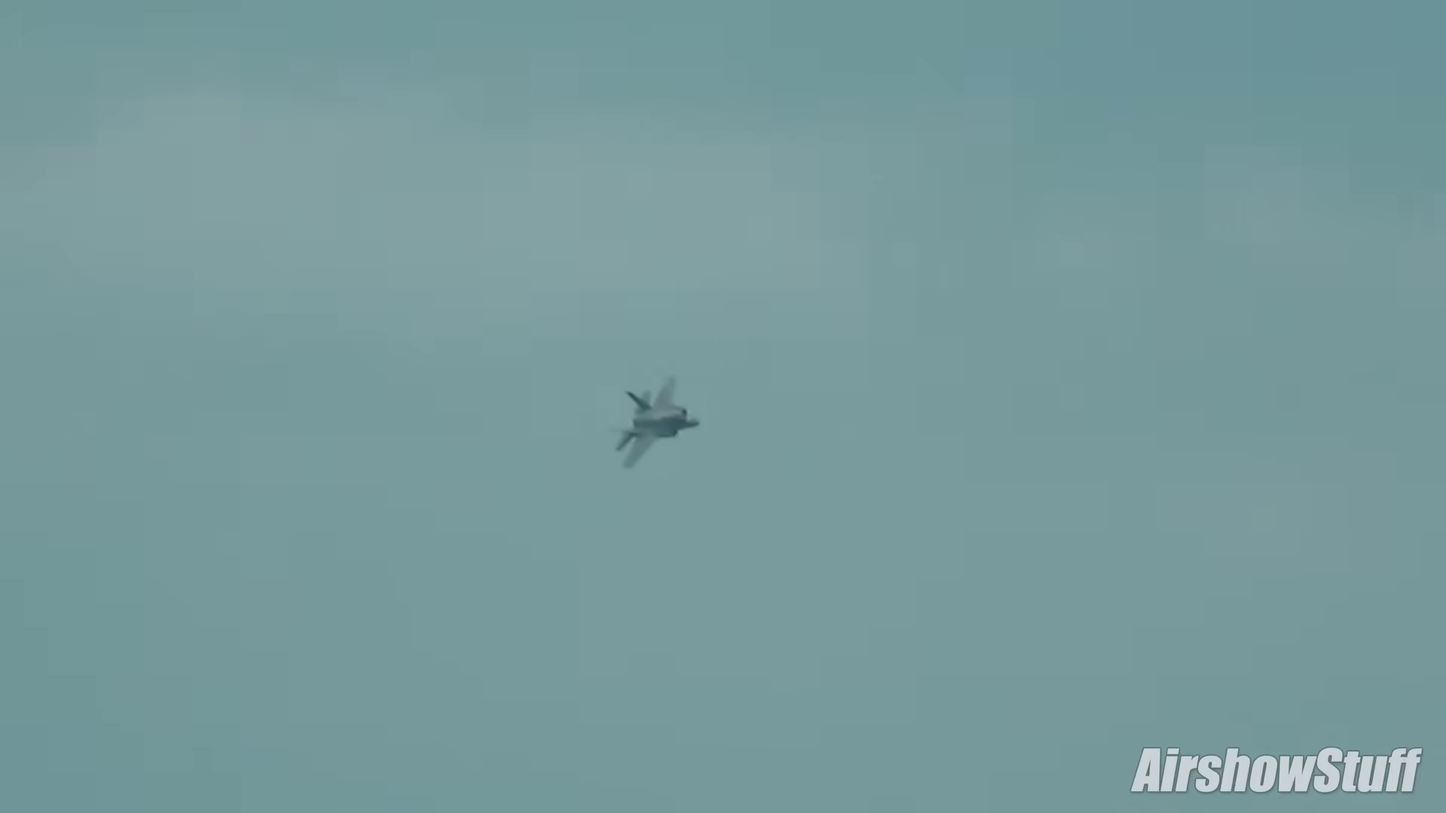F35: (604, 368, 708, 479)
